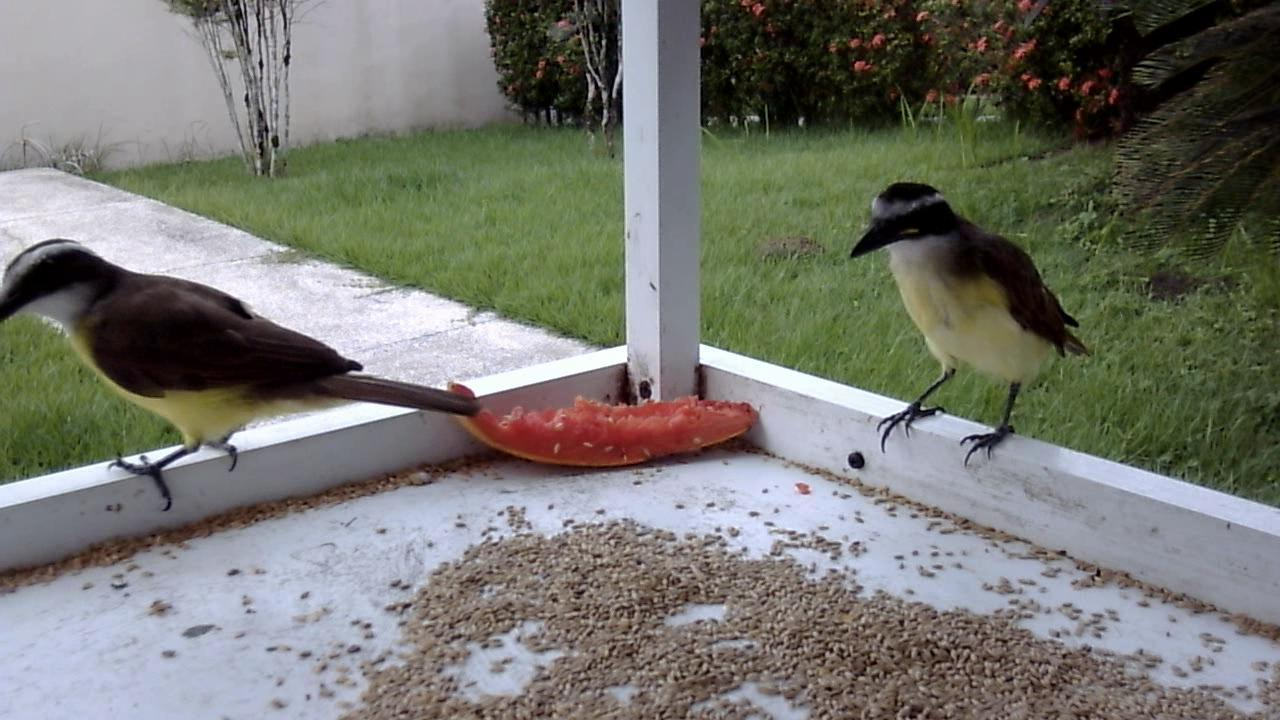bem_te_vi: (1, 210, 478, 540), (842, 174, 1090, 478)
